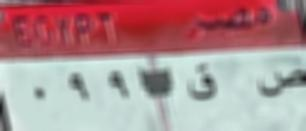0: (28, 81, 50, 105)
9: (104, 69, 135, 108), (67, 71, 94, 108)
qaaf: (182, 61, 220, 106)
saad: (255, 67, 306, 102)
